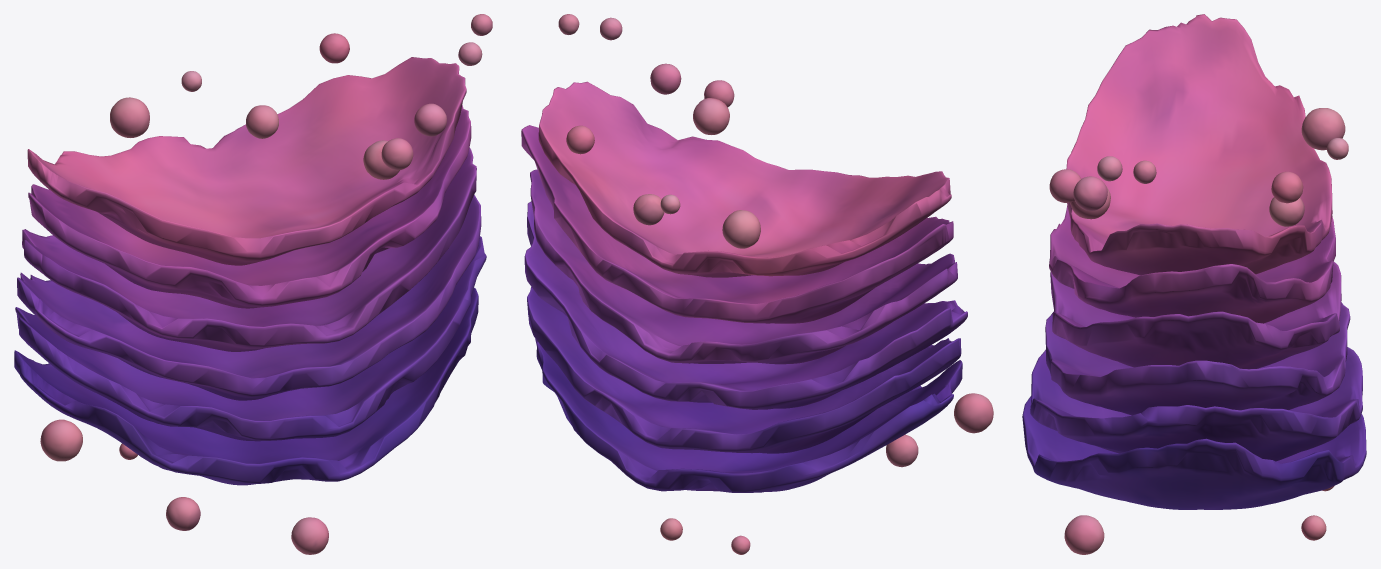
The model's file is golgi.glb.
3 views of the same model, side by side, from view 1: azimuth 30°, elevation 25°; view 2: azimuth 150°, elevation 25°; view 3: azimuth 270°, elevation 25° (orthographic). The views are drawn at different scales.
Visible parts, largest first — view 1: golgi-cisternae, golgi-vesicles; view 2: golgi-cisternae, golgi-vesicles; view 3: golgi-cisternae, golgi-vesicles.
Boxes of the visible parts, <box> form: golgi-cisternae: <box>14,57,486,485</box>; golgi-vesicles: <box>40,14,492,554</box>; golgi-cisternae: <box>521,81,967,492</box>; golgi-vesicles: <box>558,14,993,554</box>; golgi-cisternae: <box>1022,14,1366,509</box>; golgi-vesicles: <box>1049,108,1348,554</box>.
Size of what is drawn, in the model's own units: 3.7 by 3.62 by 2.29.
